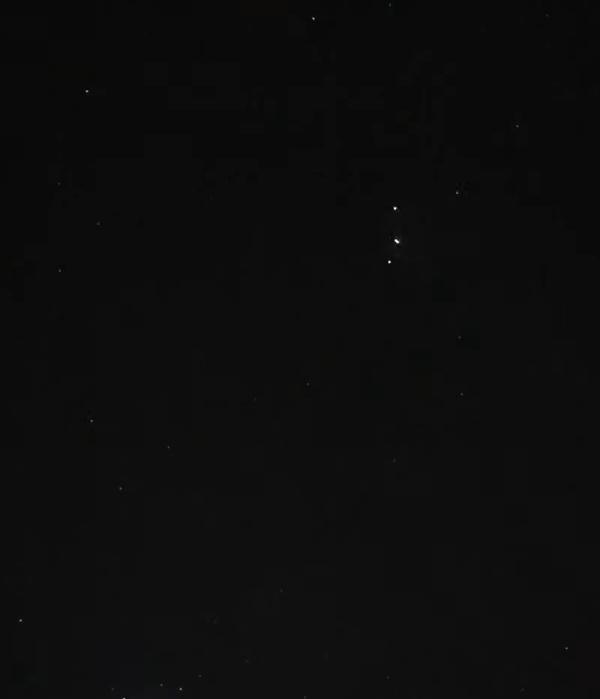Plane: (379, 182, 409, 279)
